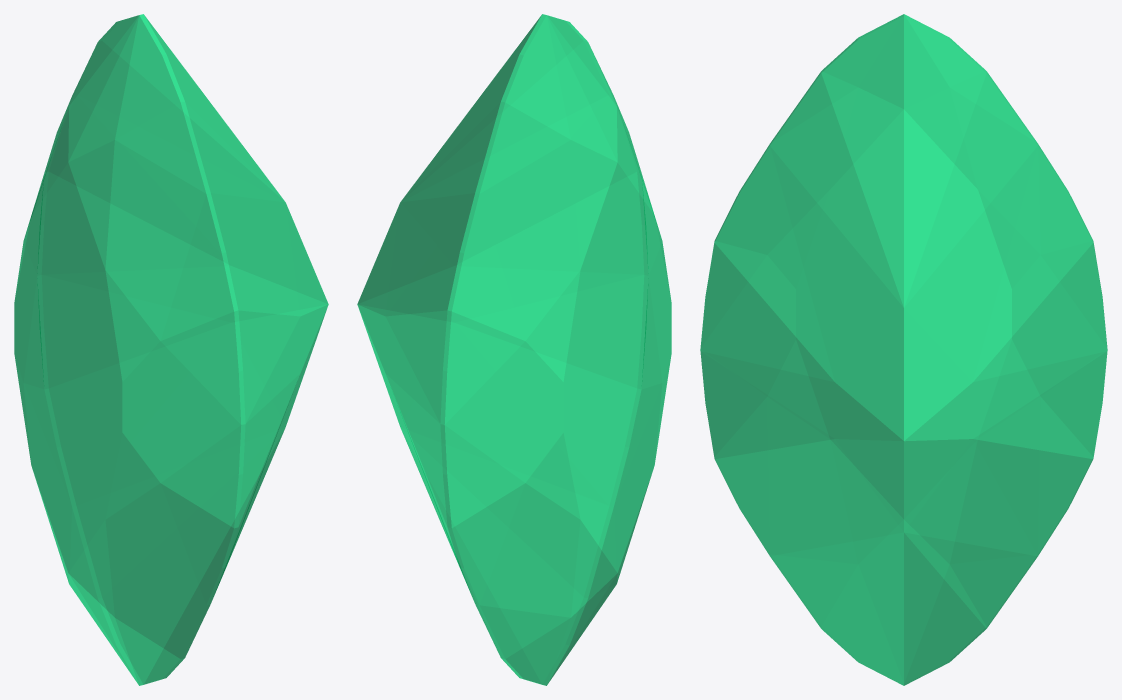
The model's file is marquise peridot.glb.
3 views of the same model, side by side, from view 1: azimuth 30°, elevation 25°; view 2: azimuth 150°, elevation 25°; view 3: azimuth 270°, elevation 25° (orthographic).
Parts seen in each view (by area): view 1: Marquise; view 2: Marquise; view 3: Marquise.
Part boxes in pixels (x1,y1,x2,y2): Marquise: (14, 14, 328, 685); Marquise: (357, 14, 671, 685); Marquise: (700, 14, 1107, 685).
Size of the model in its own units: 0.8446 by 2.08 by 1.15.
